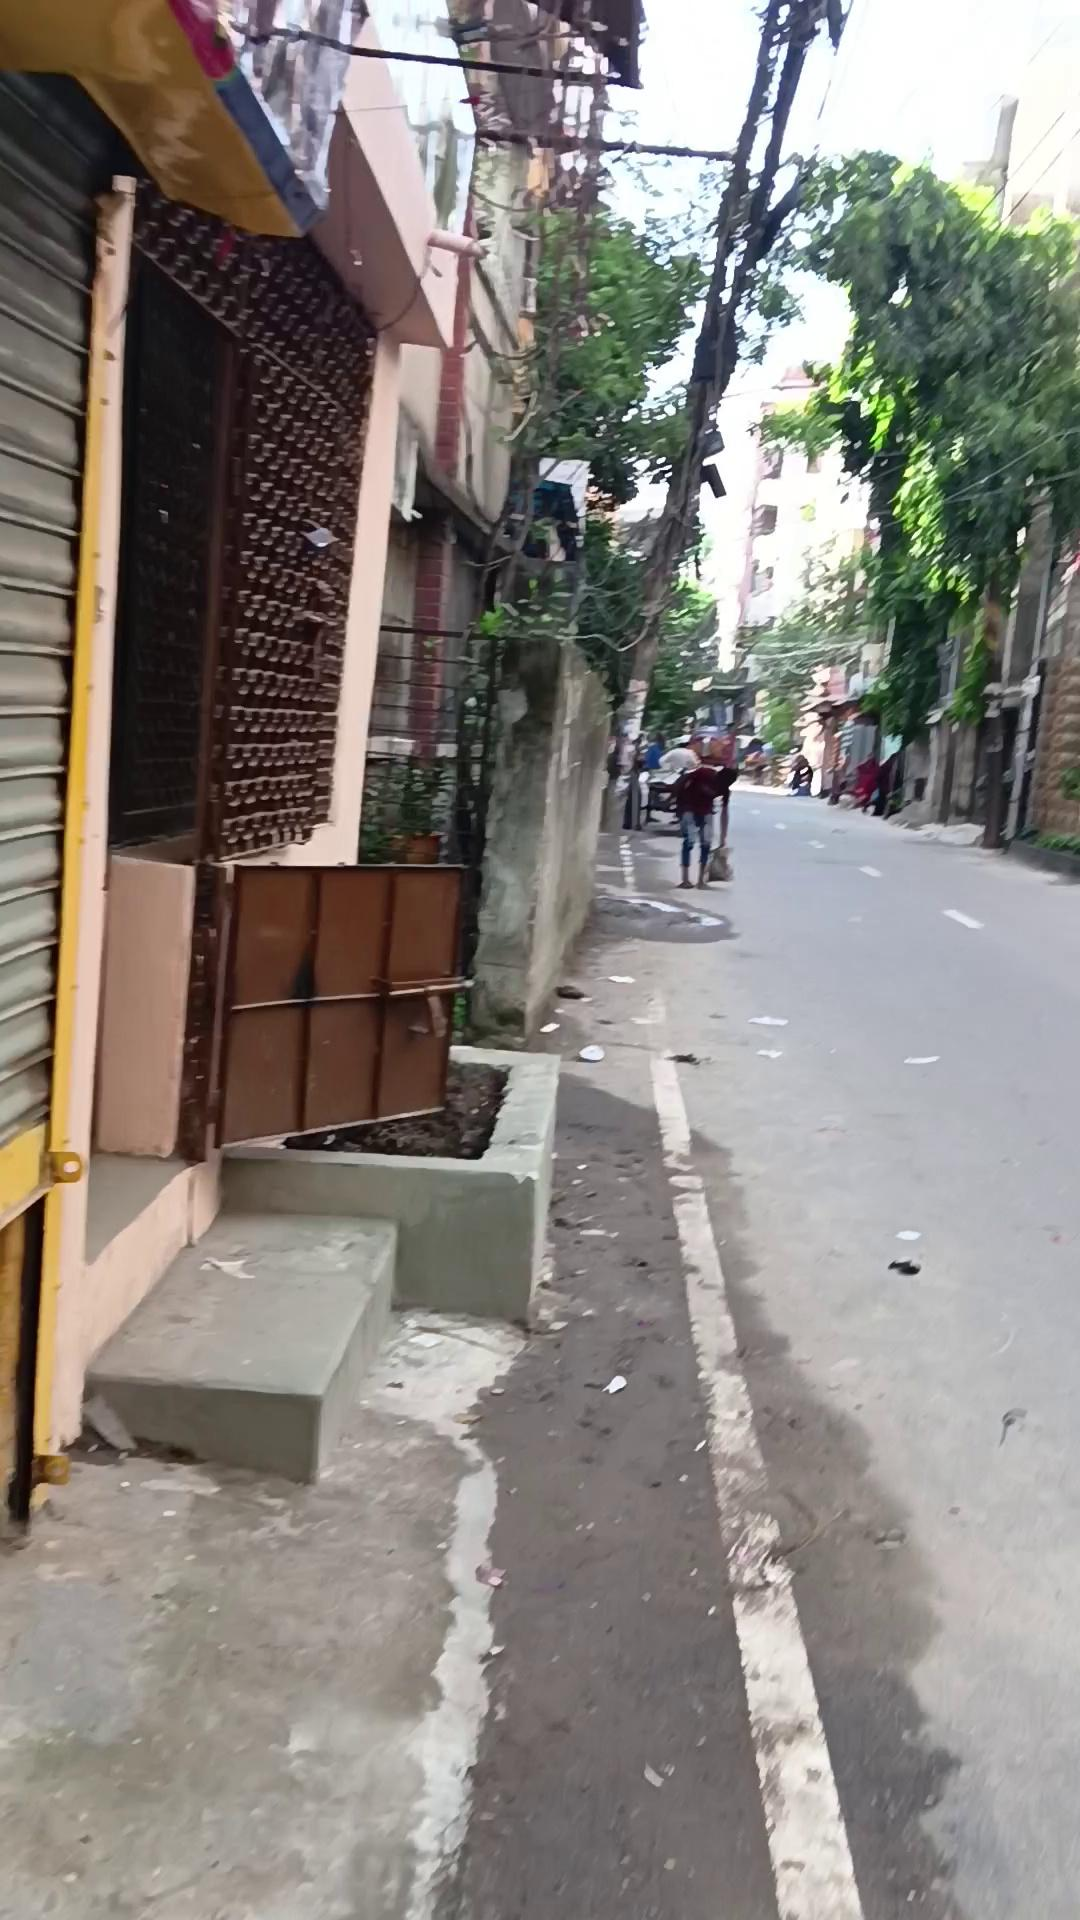Broken-road: (80, 1040, 560, 1484), (394, 1400, 502, 1917)
Dog: (611, 1, 841, 790)
Light-pole: (749, 145, 1077, 831)
Obstacle: (0, 0, 618, 1514)
